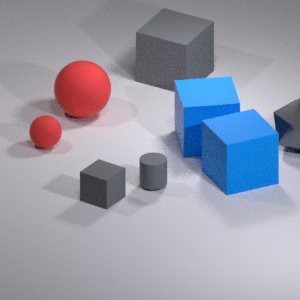lapphuong: (129, 6, 217, 89), (203, 111, 284, 194), (170, 71, 240, 160), (74, 153, 126, 209)
lucgiac: (272, 95, 300, 151)
tron: (50, 57, 113, 119), (24, 109, 64, 159)
tru: (134, 149, 171, 194)
